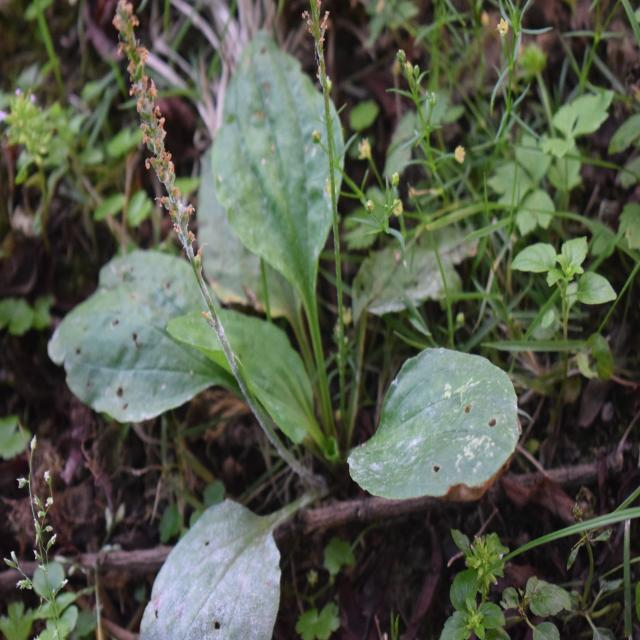plantain: (80, 48, 555, 540)
